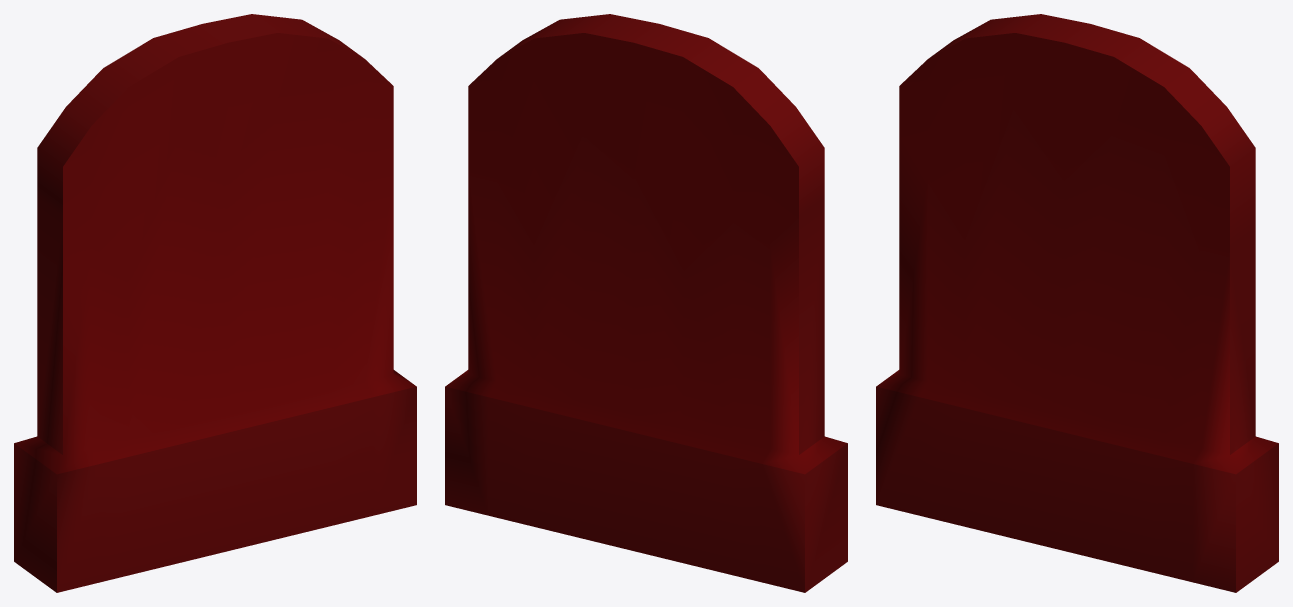
File: geology-carvedstone-gravestone_v3.fbx
3 views of the same model, side by side, from view 1: azimuth 30°, elevation 25°; view 2: azimuth 150°, elevation 25°; view 3: azimuth 330°, elevation 25° (orthographic).
Visible parts, largest first — view 1: Gravestone_v3; view 2: Gravestone_v3; view 3: Gravestone_v3.
Part boxes in pixels (bbox=[...]): Gravestone_v3: bbox=[14, 14, 416, 592]; Gravestone_v3: bbox=[445, 14, 847, 592]; Gravestone_v3: bbox=[876, 14, 1278, 592].
Size of the model in its own units: 3.58 by 4.75 by 0.7343.
